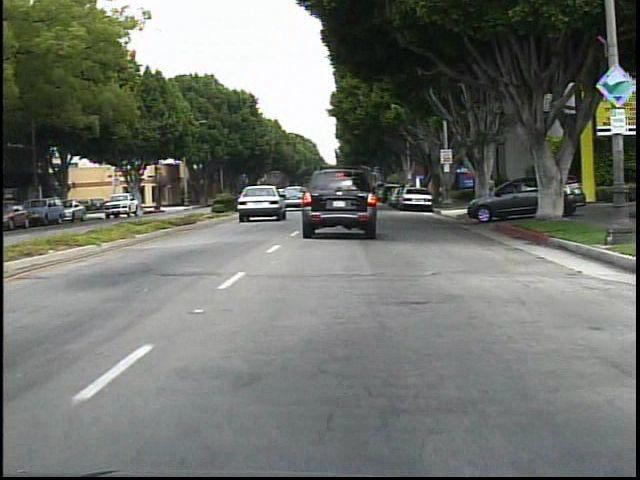person: (480, 170, 498, 209)
